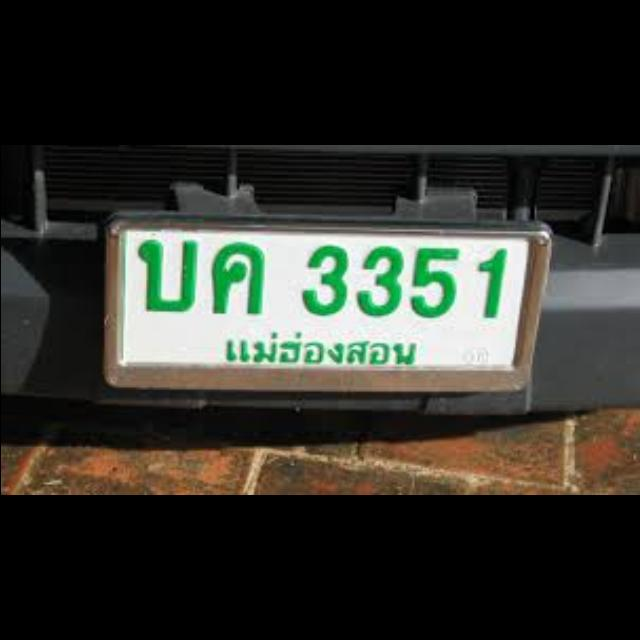licenseplate: (105, 215, 550, 399)
